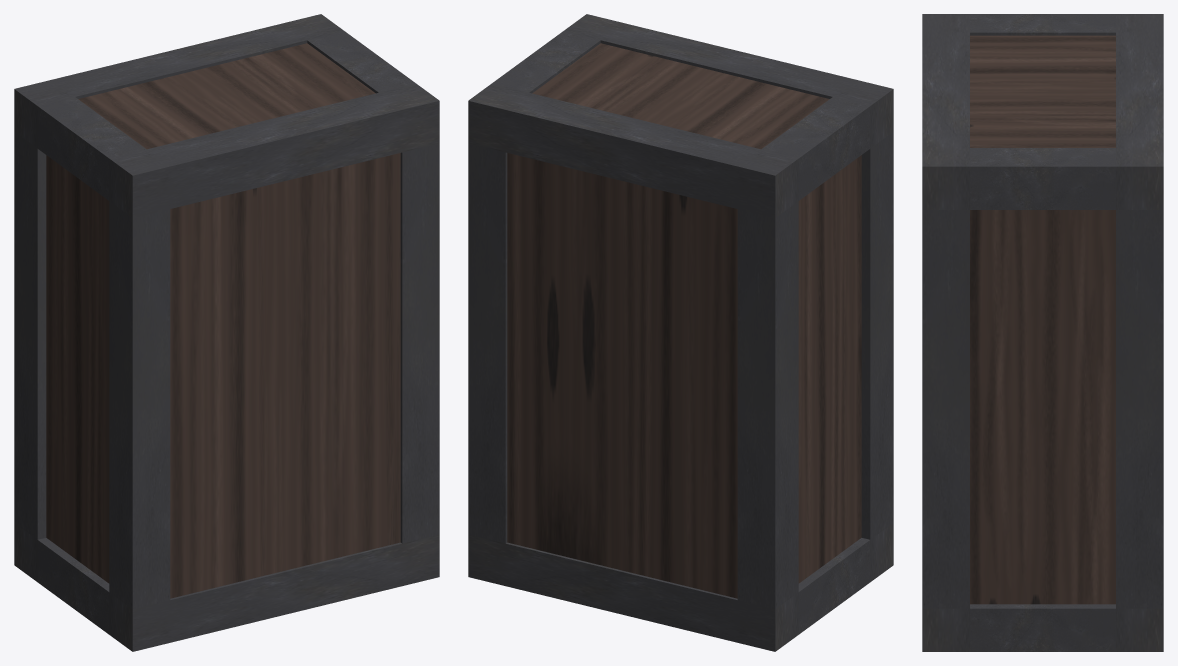
The model's file is ScatterBoxB03.fbx.
3 views of the same model, side by side, from view 1: azimuth 30°, elevation 25°; view 2: azimuth 150°, elevation 25°; view 3: azimuth 270°, elevation 25° (orthographic).
Parts seen in each view (by area): view 1: ScatterBoxB03; view 2: ScatterBoxB03; view 3: ScatterBoxB03.
Part boxes in pixels (x1,y1,x2,y2): ScatterBoxB03: (14,14,439,651); ScatterBoxB03: (468,14,893,651); ScatterBoxB03: (922,14,1163,651).
Size of the model in its own units: 123 by 182 by 82.2.
